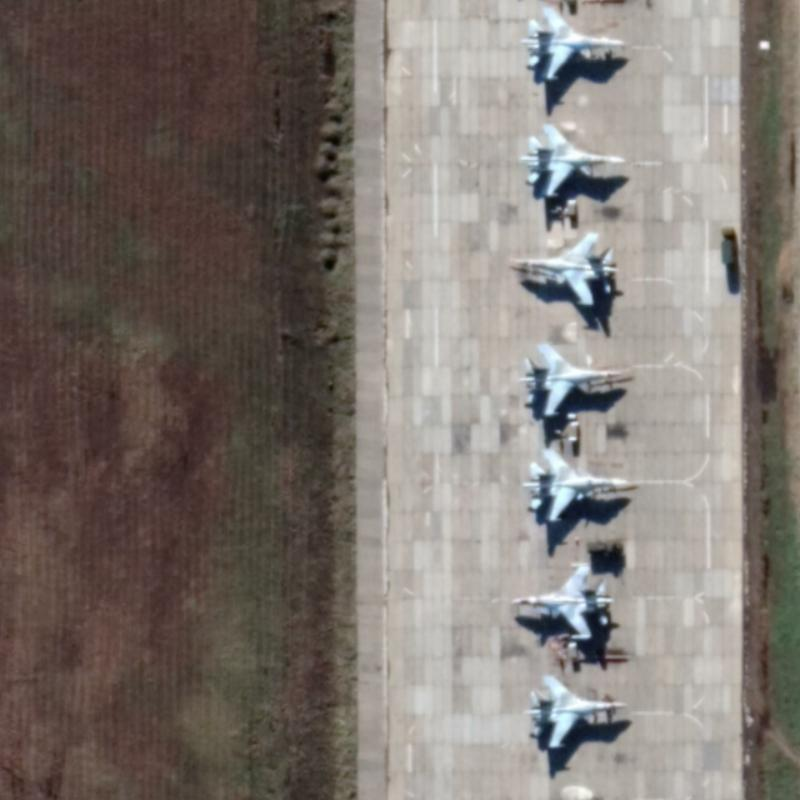A1: (509, 230, 620, 308), (508, 560, 613, 642), (518, 4, 629, 81), (516, 121, 627, 197), (516, 341, 625, 418), (523, 672, 628, 750)
A19: (520, 446, 637, 522)
